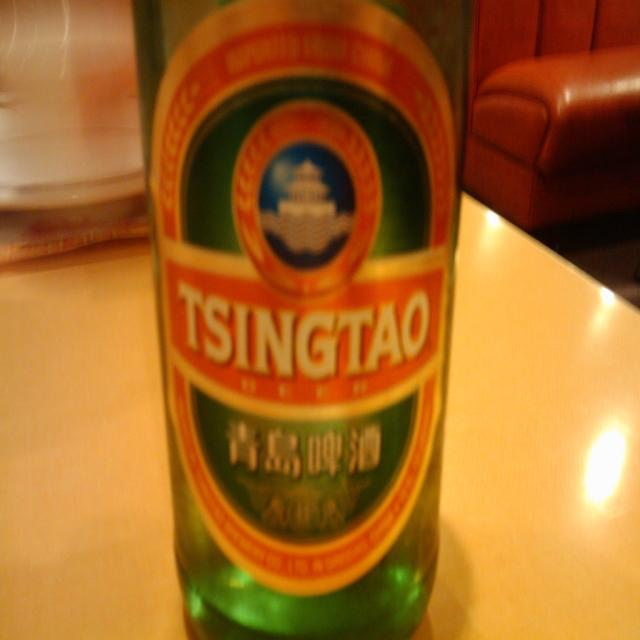tsingtao: (151, 2, 457, 597)
